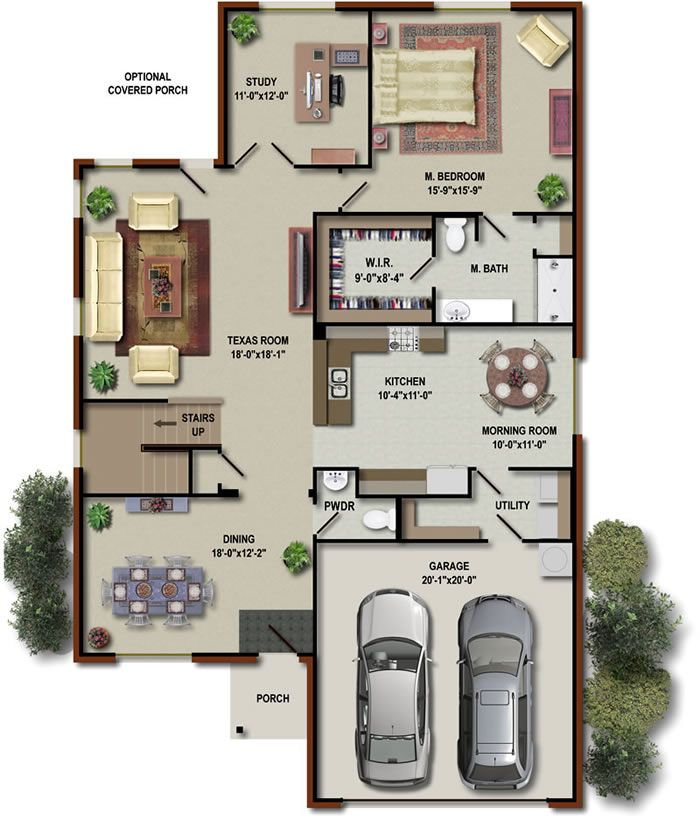room: (74, 158, 322, 402), (307, 321, 583, 500), (366, 1, 582, 216), (73, 491, 319, 659), (216, 1, 372, 170), (429, 209, 586, 328), (311, 210, 438, 328), (395, 467, 581, 544), (309, 466, 401, 544)
